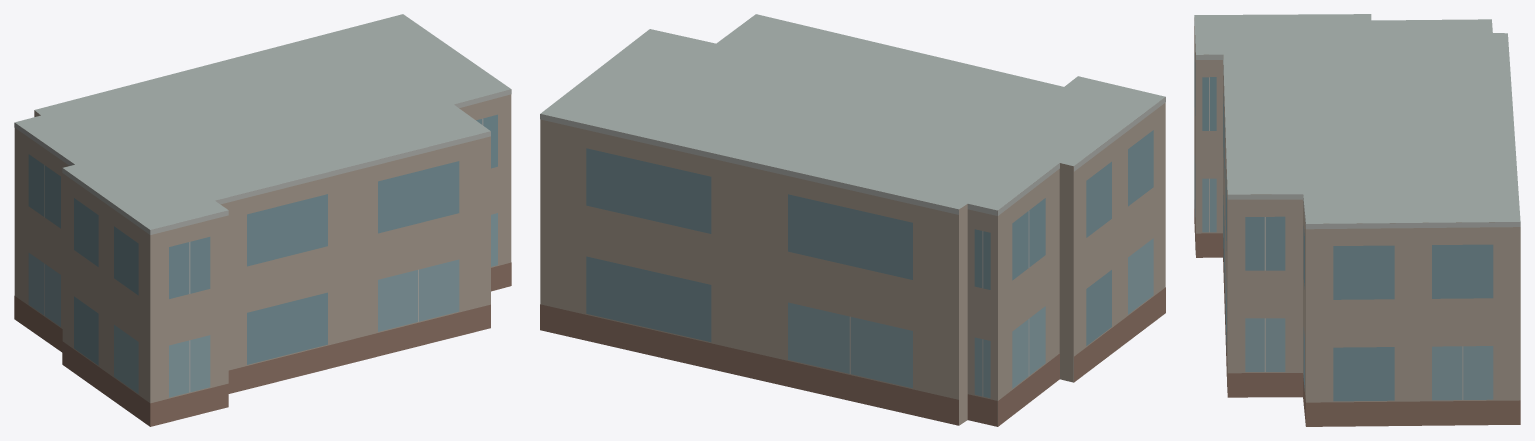
The model's file is survey-upis-32971234.glb.
The picture shows the model from 3 angles, left to right: view 1: azimuth 30°, elevation 25°; view 2: azimuth 150°, elevation 25°; view 3: azimuth 270°, elevation 25°; orthographic projection. The views are drawn at different scales.
Parts seen in each view (by area): view 1: survey-upis-32971234.tmp; view 2: survey-upis-32971234.tmp; view 3: survey-upis-32971234.tmp.
Part boxes in pixels (box(x1,y1,x2,y2)): survey-upis-32971234.tmp: box(14, 14, 511, 426); survey-upis-32971234.tmp: box(540, 14, 1165, 426); survey-upis-32971234.tmp: box(1194, 14, 1520, 426).
Bounding box in the file's own units: 20.87 × 9.4 × 13.7.
